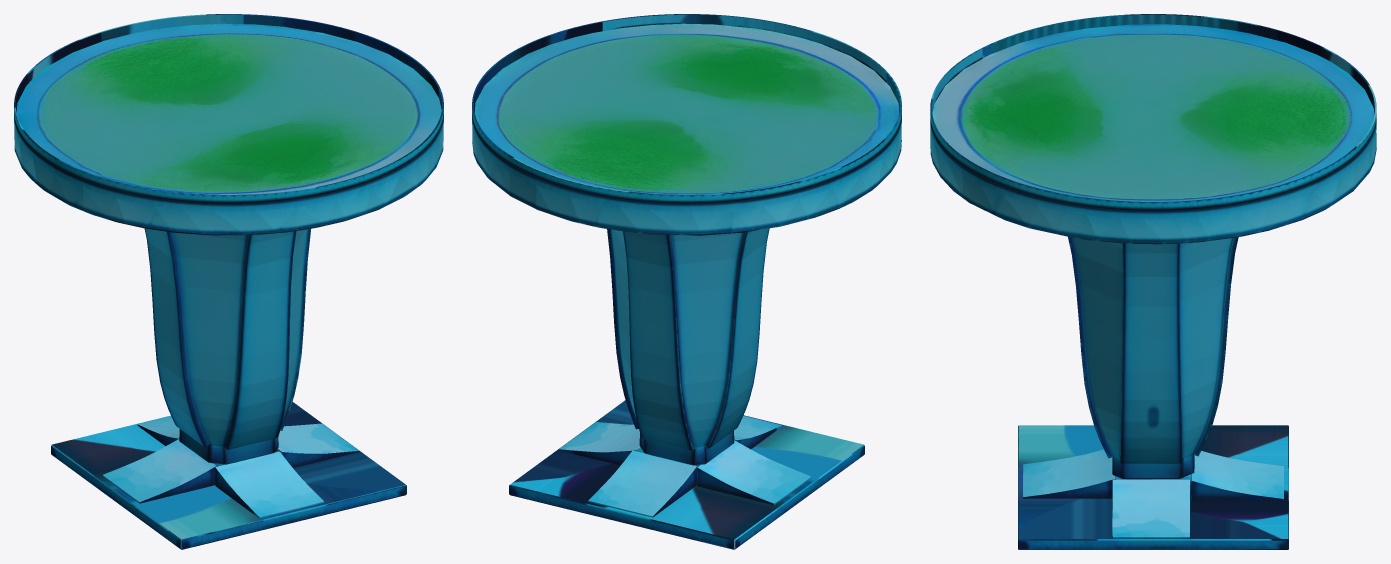
The model's file is edited_mesh.glb.
3 renders of one model, left to right at view 1: azimuth 30°, elevation 25°; view 2: azimuth 150°, elevation 25°; view 3: azimuth 270°, elevation 25°, orthographic. The views are drawn at different scales.
Parts seen in each view (by area): view 1: solid_001_wire; view 2: solid_001_wire; view 3: solid_001_wire.
Boxes of the visible parts, left/top/right/bottom form: solid_001_wire: left=14, top=14, right=443, bottom=549; solid_001_wire: left=472, top=14, right=901, bottom=549; solid_001_wire: left=930, top=14, right=1376, bottom=549.
Bounding box in the file's own units: 1.38 × 1.31 × 1.38.
1 material, 1 textured.
